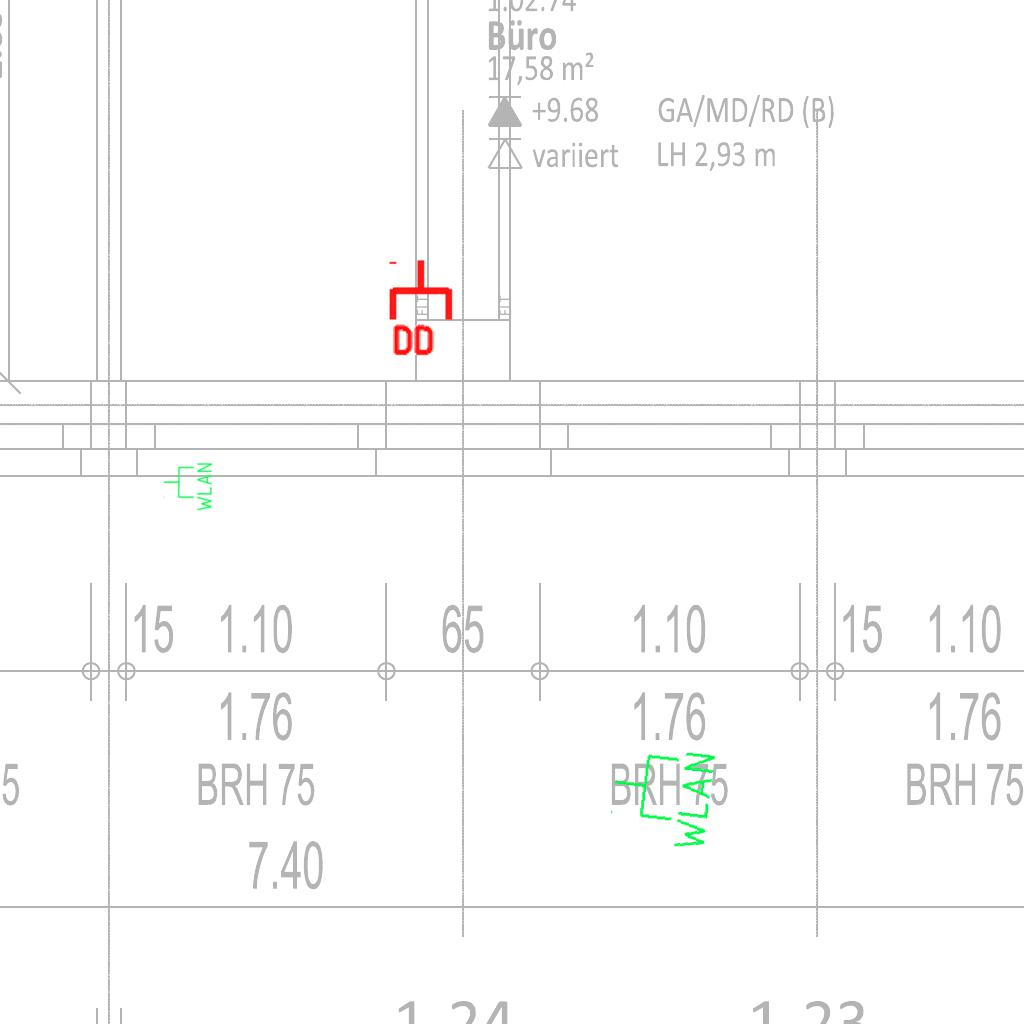Datenanschluss_zweifach: (388, 257, 457, 360)
WLAN: (603, 739, 721, 856), (162, 461, 214, 513)
